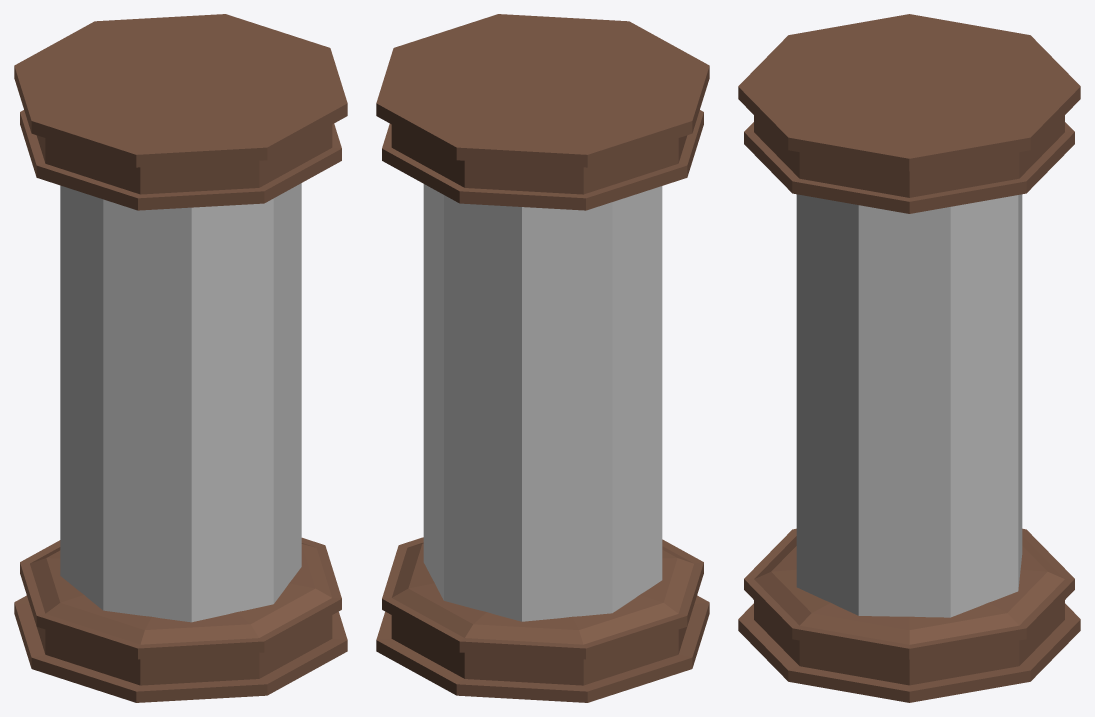
File: new_incubator.fbx
The picture shows the model from 3 angles, left to right: view 1: azimuth 30°, elevation 25°; view 2: azimuth 150°, elevation 25°; view 3: azimuth 270°, elevation 25°; orthographic projection.
Visible parts, largest first — view 1: Cylinder.002, Cylinder.001, Cylinder; view 2: Cylinder.002, Cylinder.001, Cylinder; view 3: Cylinder.002, Cylinder.001, Cylinder.
Boxes of the visible parts, left/top/right/bottom form: Cylinder.002: left=60, top=183, right=301, bottom=622; Cylinder.001: left=14, top=14, right=347, bottom=210; Cylinder: left=14, top=537, right=347, bottom=702; Cylinder.002: left=423, top=184, right=662, bottom=621; Cylinder.001: left=376, top=14, right=709, bottom=210; Cylinder: left=376, top=537, right=709, bottom=702; Cylinder.002: left=796, top=194, right=1022, bottom=617; Cylinder.001: left=738, top=14, right=1080, bottom=213; Cylinder: left=738, top=528, right=1080, bottom=702.
Size of the model in its own units: 246 by 431 by 246.
